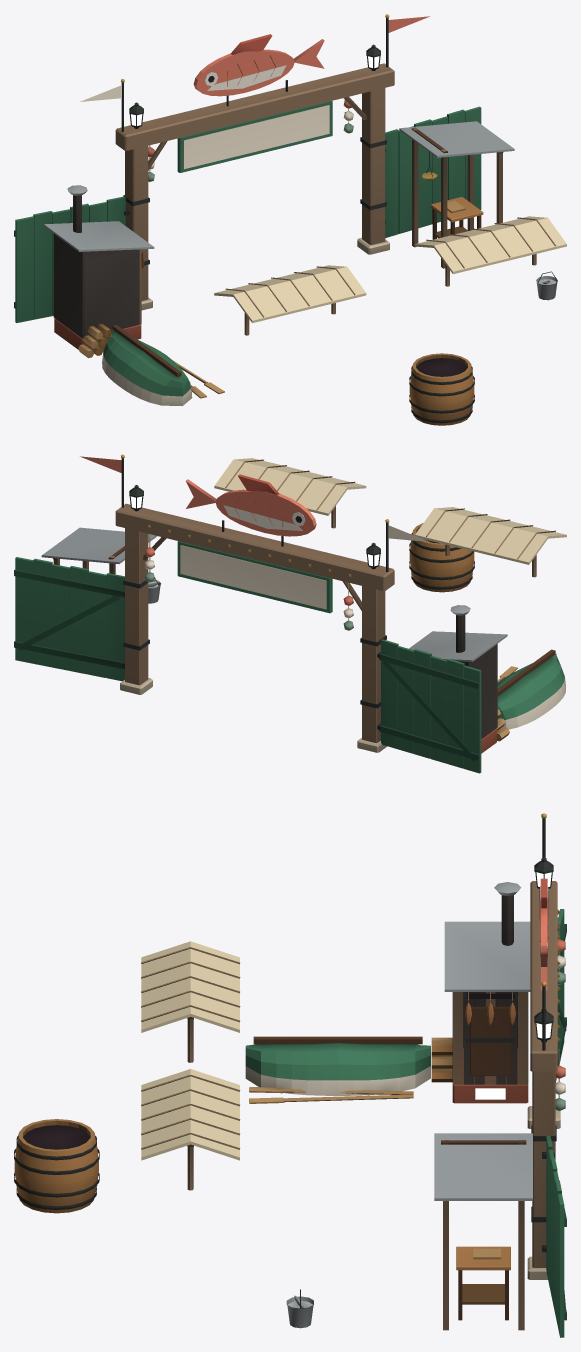
File: pav_fishyard.glb
3 renders of one model, top to bottom at view 1: azimuth 30°, elevation 25°; view 2: azimuth 150°, elevation 25°; view 3: azimuth 270°, elevation 25°, orthographic. The views are drawn at different scales.
Visible parts, largest first — view 1: static_fishyard; view 2: static_fishyard; view 3: static_fishyard.
Boxes of the visible parts, bbox=[...] form: static_fishyard: bbox=[14, 14, 566, 425]; static_fishyard: bbox=[14, 454, 566, 773]; static_fishyard: bbox=[14, 813, 566, 1337].
Size of the model in its own units: 10.2 by 4.99 by 8.06.
